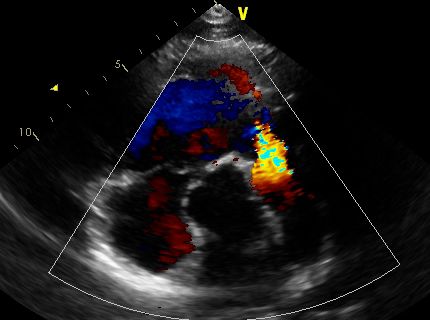PR: (251, 123, 294, 183)
